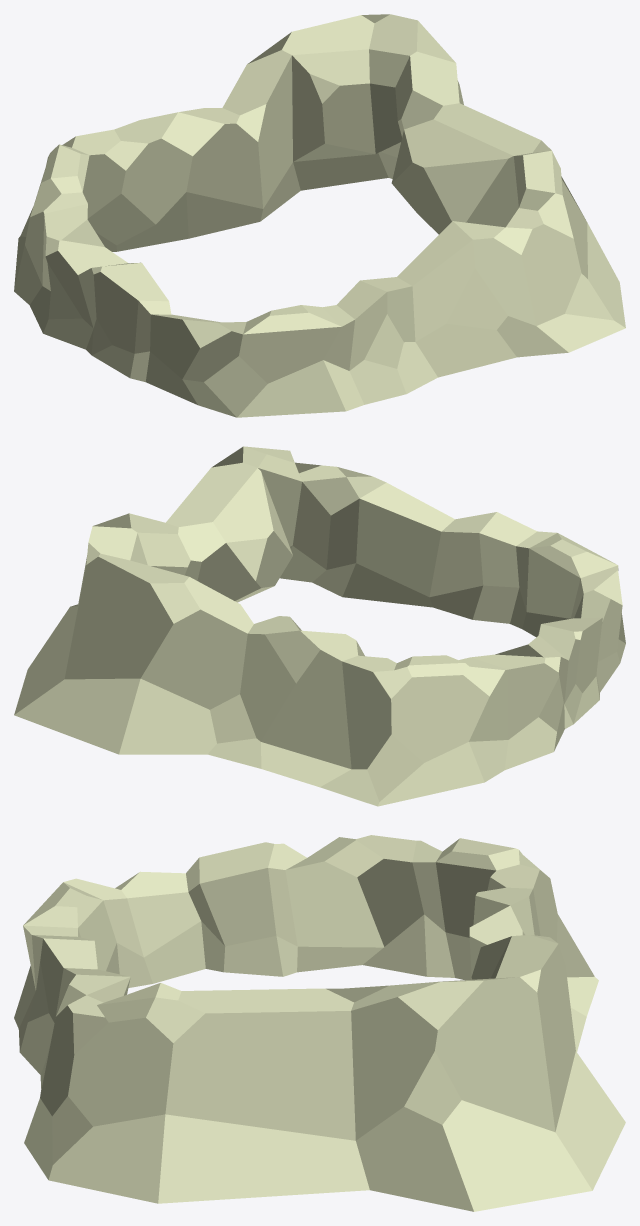
The model's file is Pond.fbx.
The picture shows the model from 3 angles, top to bottom: view 1: azimuth 30°, elevation 25°; view 2: azimuth 150°, elevation 25°; view 3: azimuth 270°, elevation 25°; orthographic projection. The views are drawn at different scales.
Parts seen in each view (by area): view 1: Pond Rock; view 2: Pond Rock; view 3: Pond Rock.
Boxes of the visible parts, left/top/right/bottom form: Pond Rock: left=14, top=14, right=625, bottom=417; Pond Rock: left=14, top=446, right=625, bottom=806; Pond Rock: left=14, top=835, right=625, bottom=1211.
Size of the model in its own units: 1738 by 565 by 1630.
